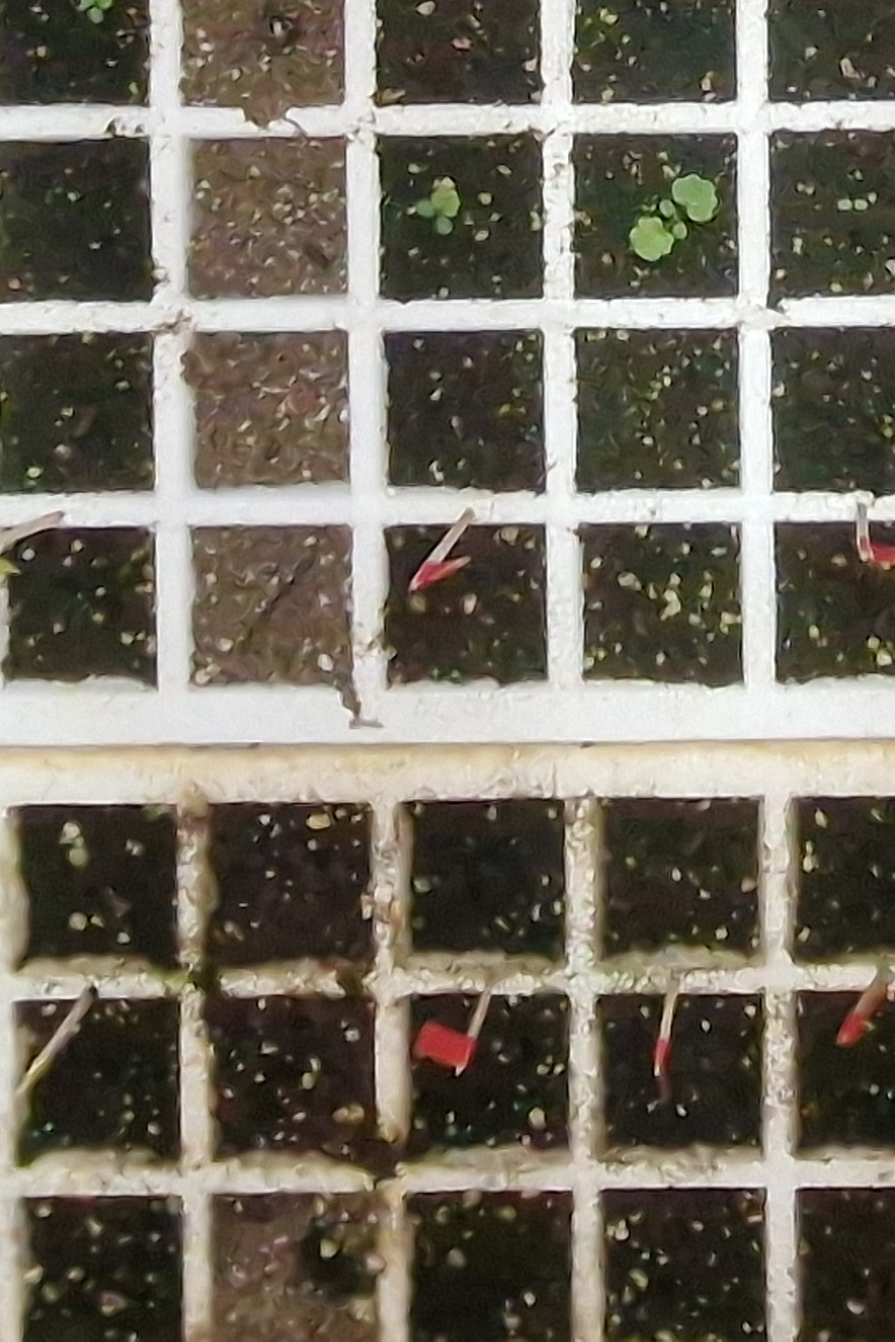Folha: (673, 174, 718, 221), (630, 216, 673, 262), (431, 185, 460, 216), (658, 198, 674, 218), (418, 200, 436, 216), (436, 217, 452, 234), (88, 7, 103, 23), (674, 222, 686, 239), (76, 0, 94, 11), (838, 199, 852, 211), (855, 199, 868, 211)
Germinacao: (629, 173, 718, 261), (416, 184, 461, 235), (836, 198, 868, 211)
